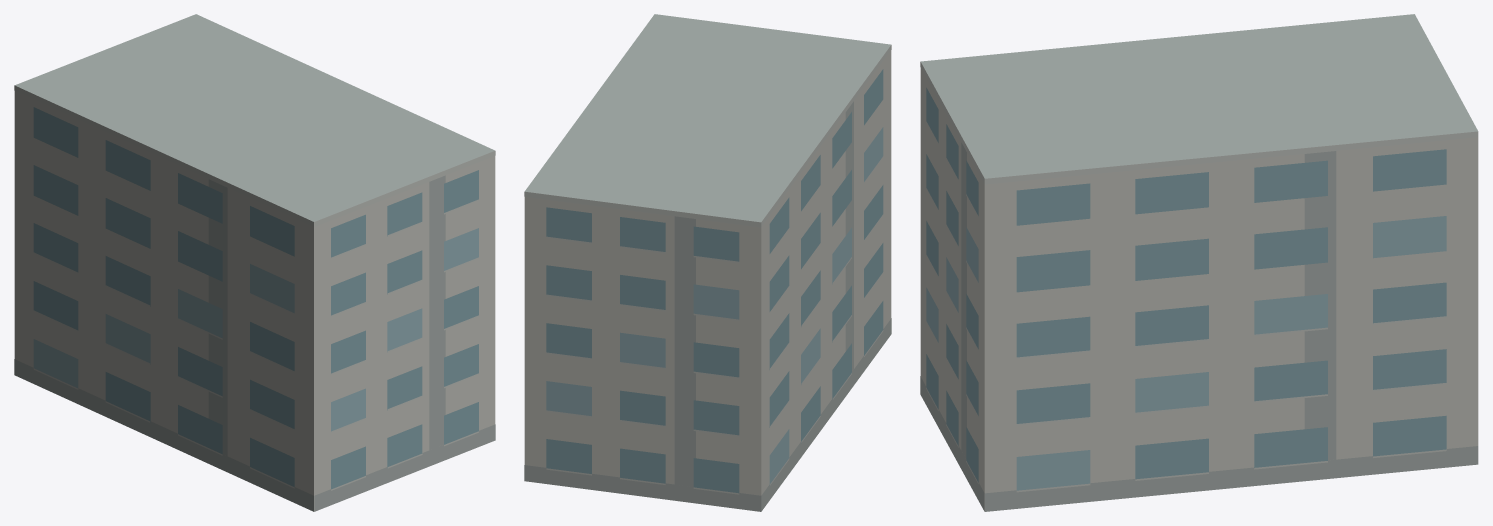
File: survey-upis-32606594.glb
The picture shows the model from 3 angles, left to right: view 1: azimuth 30°, elevation 25°; view 2: azimuth 150°, elevation 25°; view 3: azimuth 270°, elevation 25°; orthographic projection. The views are drawn at different scales.
Parts seen in each view (by area): view 1: survey-upis-32606594.tmp; view 2: survey-upis-32606594.tmp; view 3: survey-upis-32606594.tmp.
Part boxes in pixels (x1=…): survey-upis-32606594.tmp: x1=14, y1=14, x2=495, y2=511; survey-upis-32606594.tmp: x1=524, y1=14, x2=891, y2=511; survey-upis-32606594.tmp: x1=920, y1=14, x2=1478, y2=511.
Bounding box in the file's own units: 14.54 × 13.7 × 20.8.
